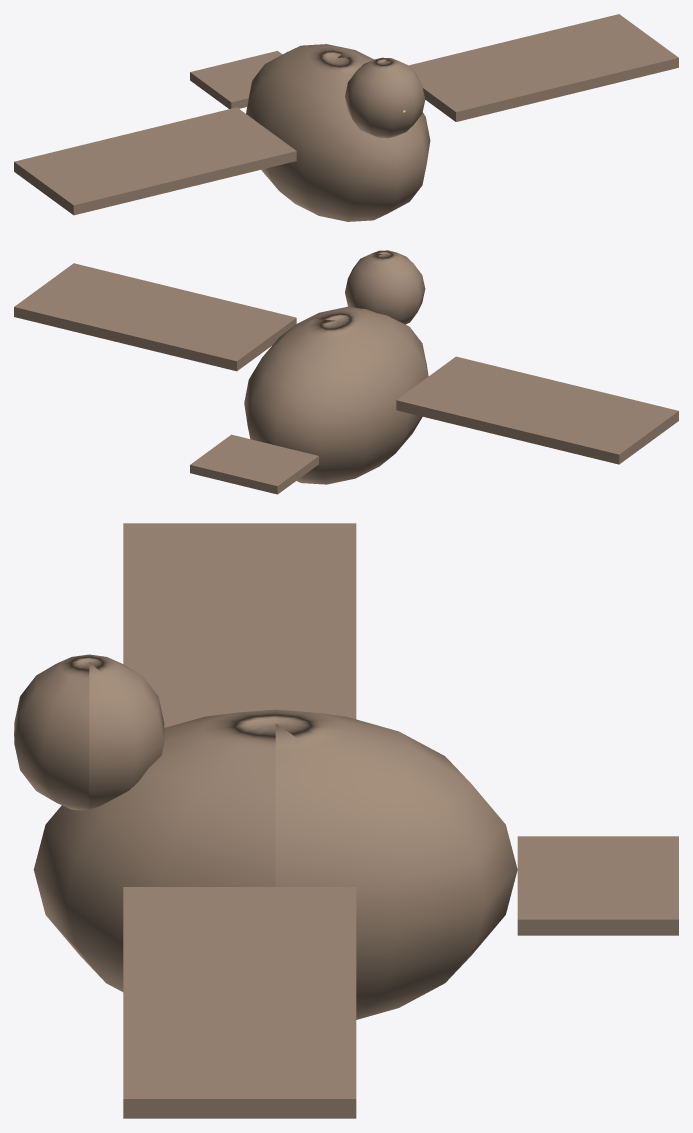
File: e27aeaab-ff64-4277-864f-7801aba69ed0.glb
3 views of the same model, one above another, from view 1: azimuth 30°, elevation 25°; view 2: azimuth 150°, elevation 25°; view 3: azimuth 270°, elevation 25° (orthographic). The views are drawn at different scales.
Parts seen in each view (by area): view 1: Generated3DMesh; view 2: Generated3DMesh; view 3: Generated3DMesh.
Boxes of the visible parts, left/top/right/bottom form: Generated3DMesh: left=14, top=14, right=678, bottom=221; Generated3DMesh: left=14, top=250, right=678, bottom=494; Generated3DMesh: left=14, top=523, right=678, bottom=1118.
Bounding box in the file's own units: 3.8 × 1.09 × 1.86.
